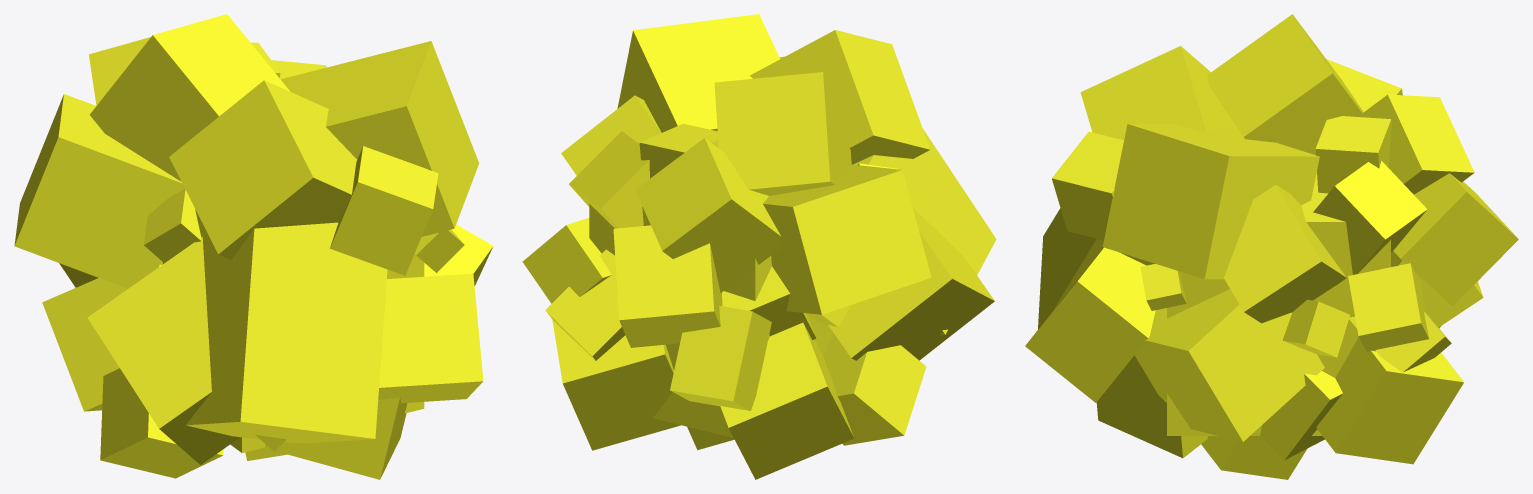
The model's file is spacejunk_bullet.glb.
3 renders of one model, left to right at view 1: azimuth 30°, elevation 25°; view 2: azimuth 150°, elevation 25°; view 3: azimuth 270°, elevation 25°, orthographic. The views are drawn at different scales.
Parts seen in each view (by area): view 1: MainObject; view 2: MainObject; view 3: MainObject.
Boxes of the visible parts, x1,y1,x2,y2 form: MainObject: [14, 14, 493, 479]; MainObject: [522, 14, 996, 479]; MainObject: [1025, 14, 1518, 479].
Bounding box in the file's own units: 0.4582 × 0.4796 × 0.5307.
